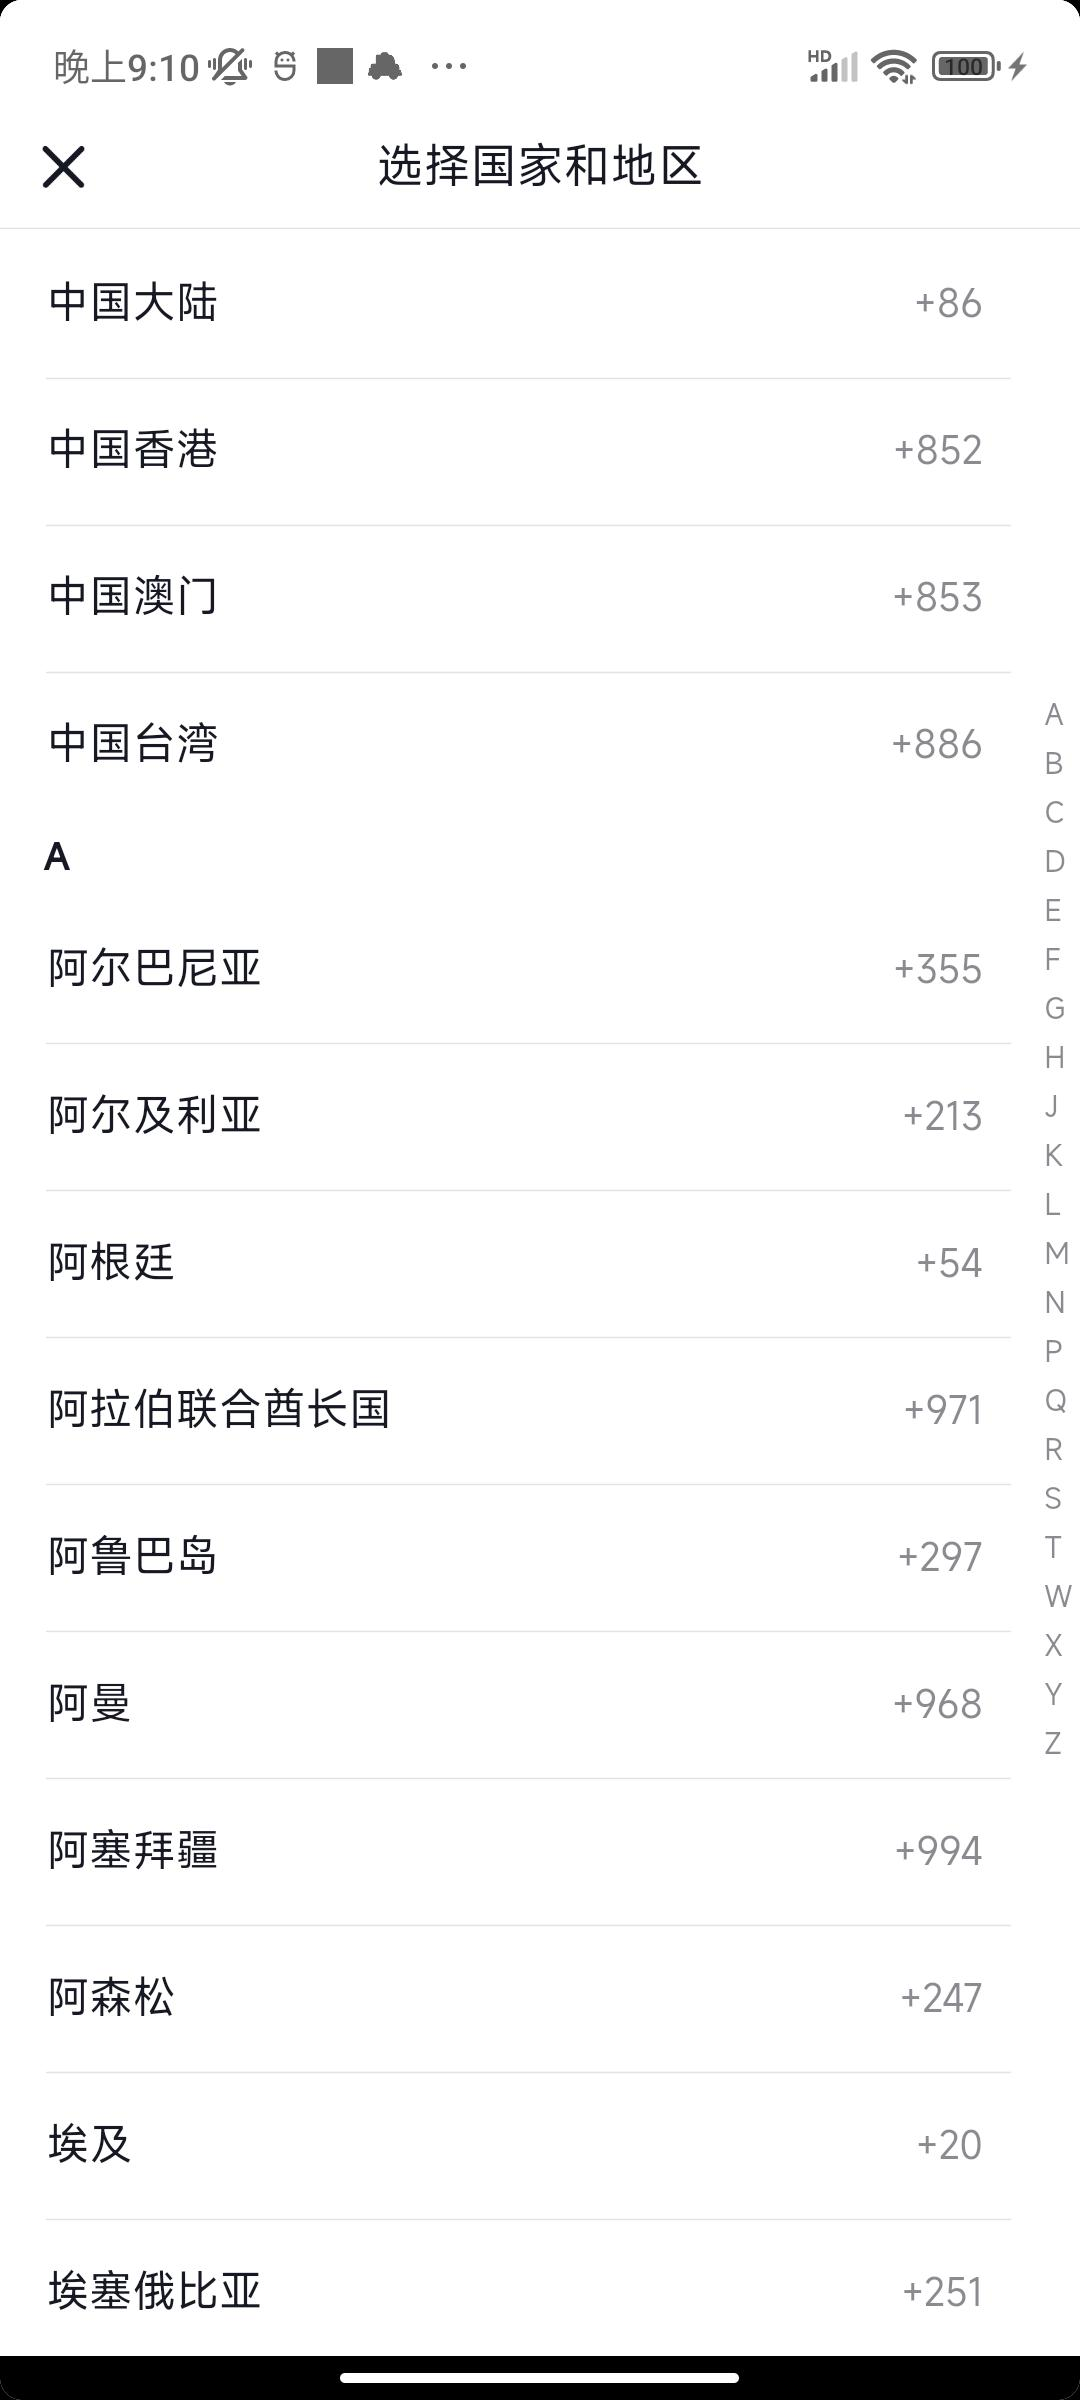ui_group: (2, 245, 1042, 357), (8, 911, 1025, 1016)
